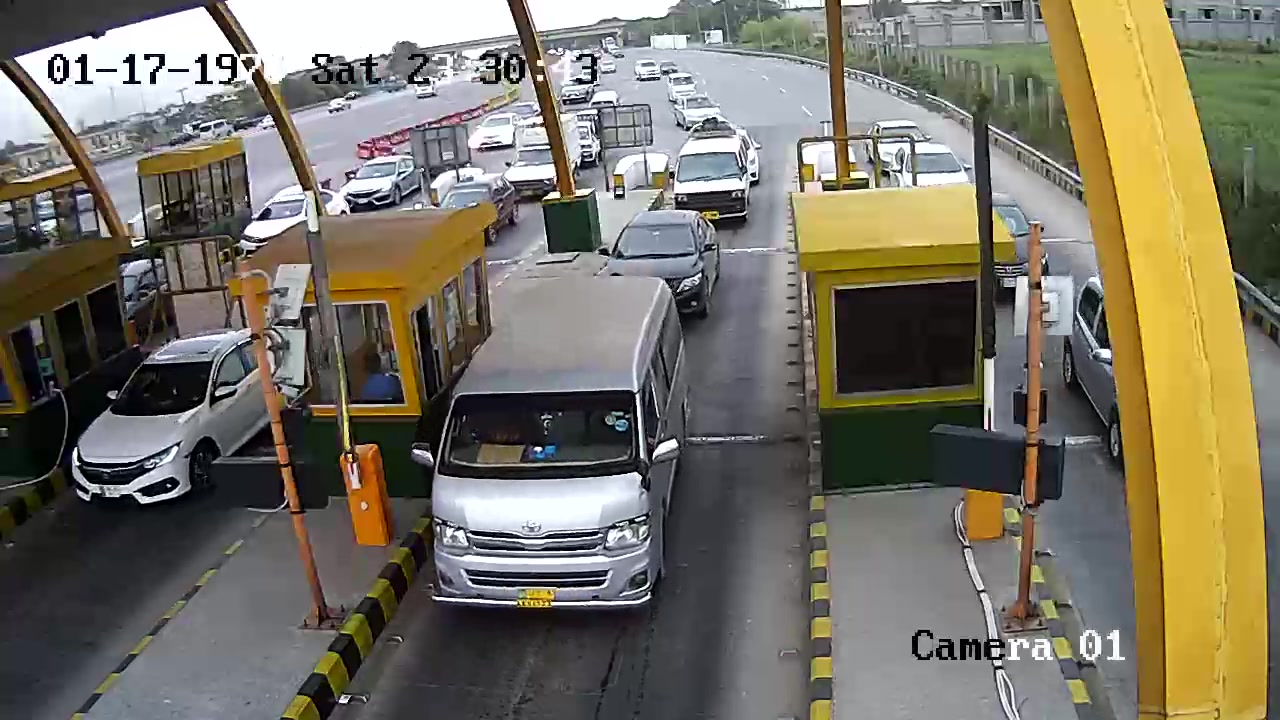F3: (415, 267, 704, 618)
